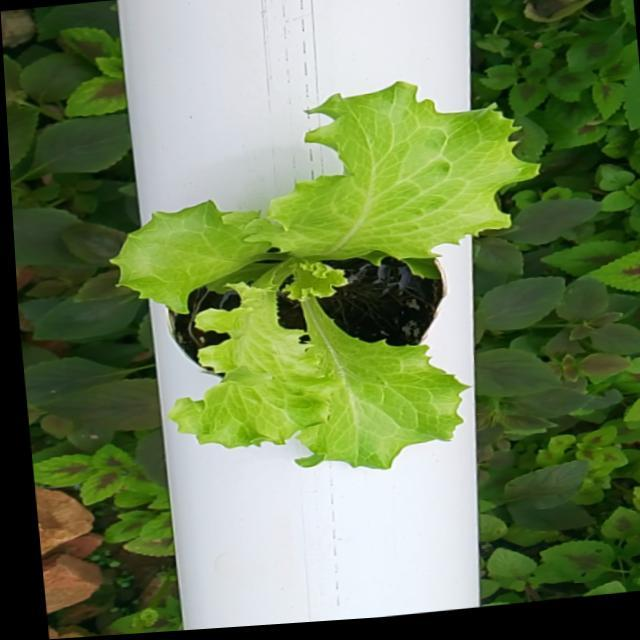Baby: (92, 83, 515, 465)
